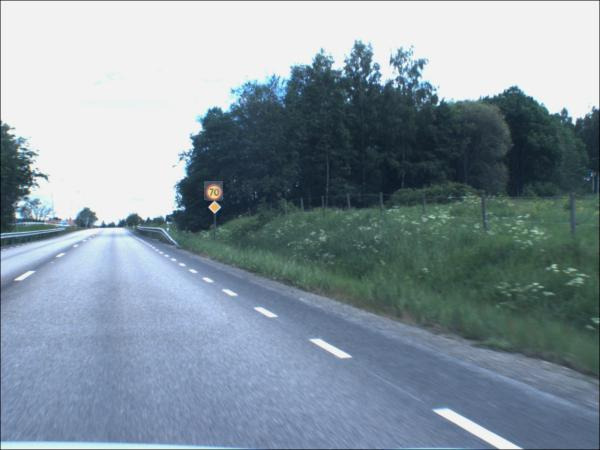70_SIGN: (205, 182, 225, 202)
PRIORITY_ROAD: (208, 202, 224, 216)
